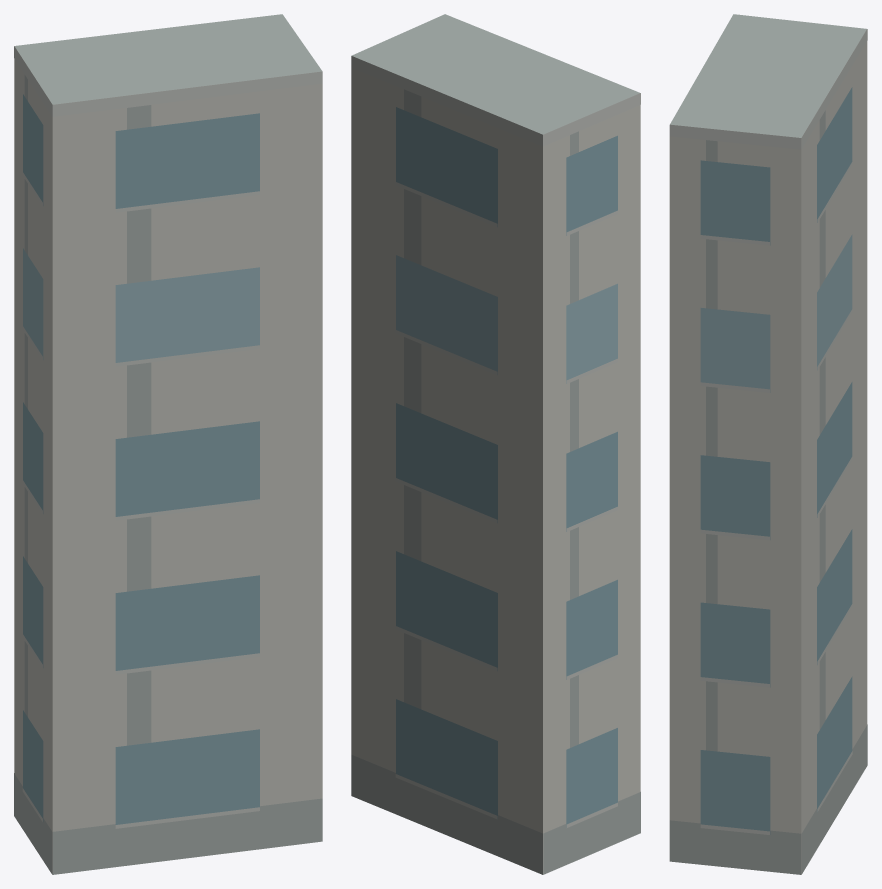
File: survey-upis-32730887.glb
3 views of the same model, side by side, from view 1: azimuth 30°, elevation 25°; view 2: azimuth 150°, elevation 25°; view 3: azimuth 270°, elevation 25° (orthographic). The views are drawn at different scales.
Visible parts, largest first — view 1: survey-upis-32730887.tmp; view 2: survey-upis-32730887.tmp; view 3: survey-upis-32730887.tmp.
Part boxes in pixels (x1,y1,x2,y2): survey-upis-32730887.tmp: (14, 14, 322, 874); survey-upis-32730887.tmp: (351, 14, 640, 874); survey-upis-32730887.tmp: (669, 14, 867, 874).
Size of the model in its own units: 5.51 by 15.25 by 3.71.
